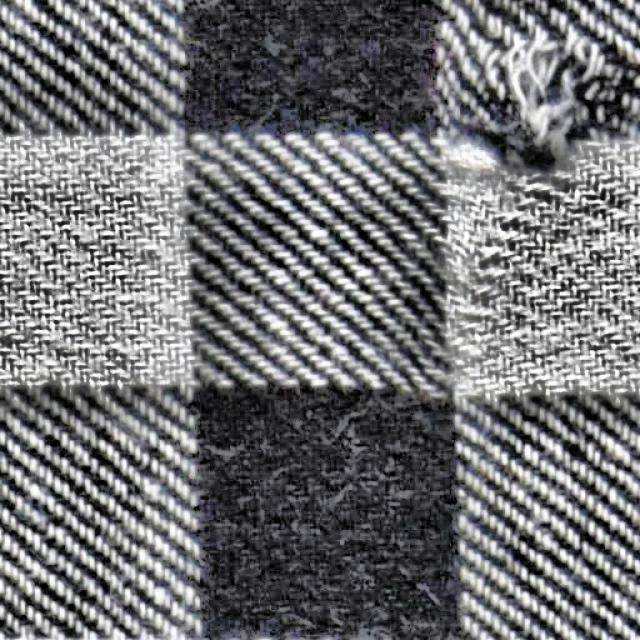cut: (440, 0, 639, 151)
